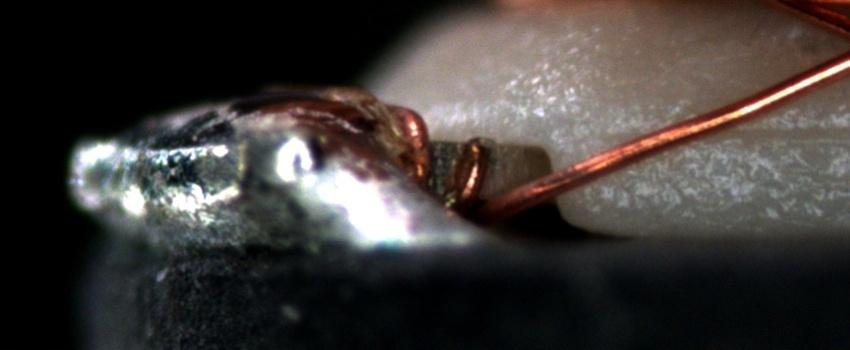CL: (831, 12, 850, 73)
DL: (623, 110, 849, 160)
TE: (383, 94, 491, 224)
